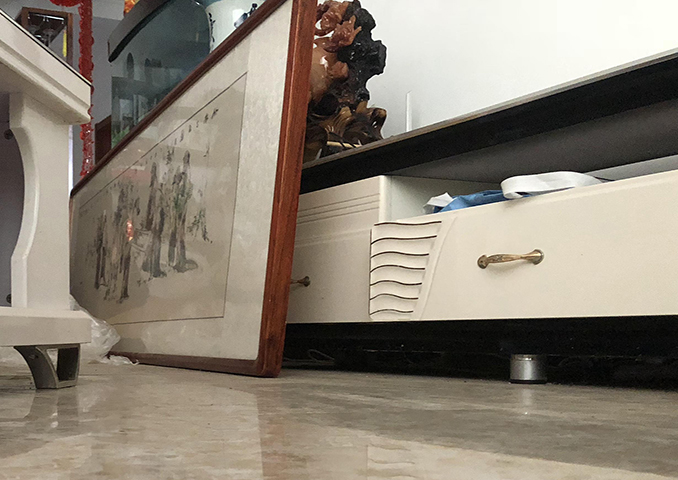cabinet: (305, 50, 678, 387)
